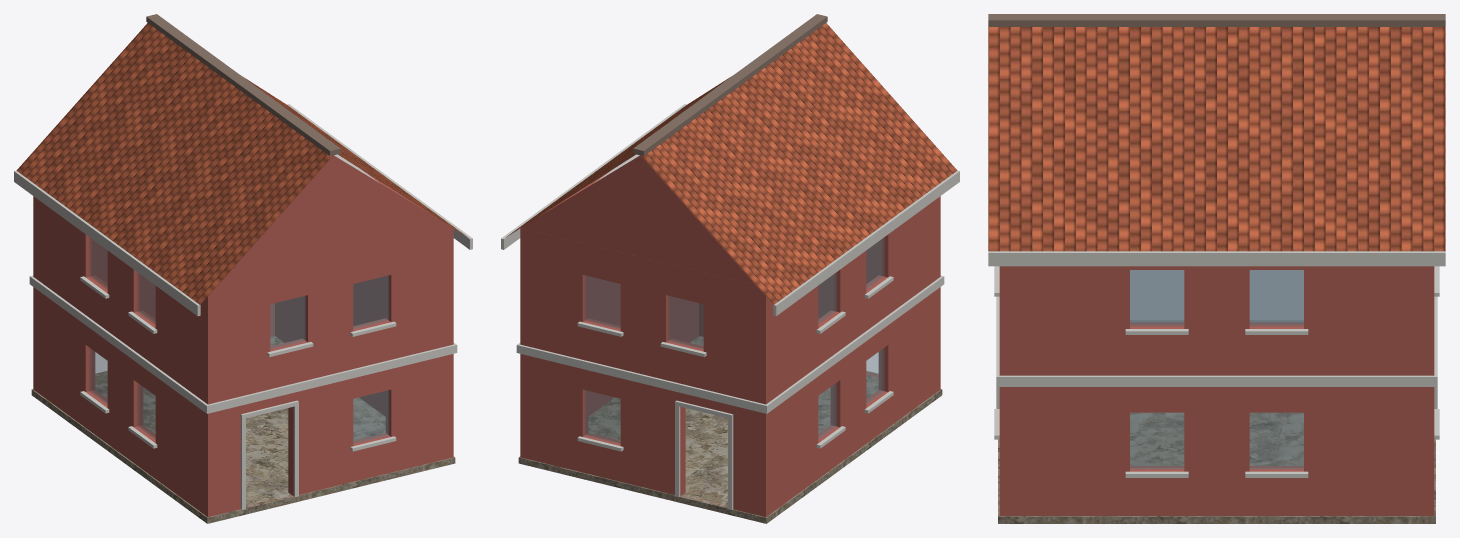
The model's file is cove-house-red.coast-v2.lod1.glb.
3 renders of one model, left to right at view 1: azimuth 30°, elevation 25°; view 2: azimuth 150°, elevation 25°; view 3: azimuth 270°, elevation 25°, orthographic. The views are drawn at different scales.
Parts seen in each view (by area): view 1: cove-house-red; view 2: cove-house-red; view 3: cove-house-red.
Boxes of the visible parts, box(x1,y1,x2,y2) form: cove-house-red: box(14, 14, 472, 523); cove-house-red: box(501, 14, 959, 523); cove-house-red: box(988, 14, 1445, 523).
Size of the model in its own units: 7.28 by 8.77 by 8.42.
4 materials, 2 textured.
